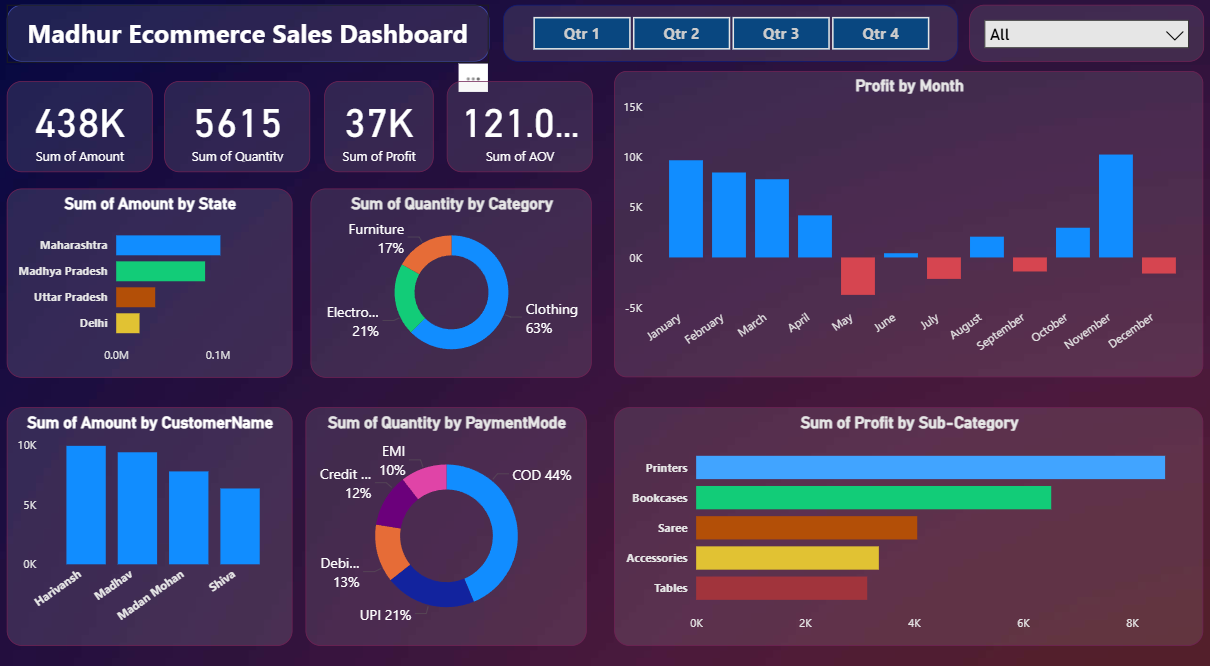

What the dashboard file says about the page in this screenshot:
{"tool":"powerbi","page":{"name":"Page 1","canvas":[1280,720],"ordinal":0},"visuals":[{"type":"textbox","box":[9.6,9.6,507.7,60.4],"z":0},{"type":"columnChart","title":"Profit by Month","fields":{"Category":["Orders.Order Date.Variation.Date Hierarchy.Month"],"Y":["Sum(Details.Profit)"]},"box":[649.1,79.6,620.2,322.5],"z":1000},{"type":"barChart","fields":{"Category":["Details.Sub-Category"],"Y":["Sum(Details.Profit)"]},"box":[649.1,432.2,620.2,251.1],"z":2000},{"type":"donutChart","fields":{"Category":["Details.Category"],"Y":["Sum(Details.Quantity)"]},"box":[329.3,203.1,296.4,199],"z":3000},{"type":"donutChart","fields":{"Y":["Sum(Details.Quantity)"],"Category":["Details.PaymentMode"]},"box":[323.8,432.2,296.4,251.1],"z":4000},{"type":"card","fields":{"Values":["Sum(Details.Amount)"]},"box":[9.6,89.2,153.7,96.1],"z":5000},{"type":"card","fields":{"Values":["Sum(Details.Quantity)"]},"box":[175.6,89.2,153.7,96.1],"z":6000},{"type":"card","fields":{"Values":["Sum(Details.Profit)"]},"box":[343.1,89.2,115.3,96.1],"z":7000},{"type":"card","fields":{"Values":["Sum(Details.AOV)"]},"box":[472,89.2,153.7,96.1],"z":8000},{"type":"barChart","fields":{"Y":["Sum(Details.Amount)"],"Category":["Orders.State"]},"box":[9.6,203.1,300.5,199],"z":9000},{"type":"columnChart","fields":{"Category":["Orders.CustomerName"],"Y":["Sum(Details.Amount)"]},"box":[9.6,432.2,300.5,251.1],"z":10000},{"type":"slicer","fields":{"Values":["Orders.Order Date.Variation.Date Hierarchy.Quarter"]},"box":[531,9.6,478.9,60.4],"z":11000},{"type":"slicer","fields":{"Values":["Orders.State"]},"box":[1022.3,9.6,247,60.4],"z":11001}]}

Visuals, with their boxes in screenshot pixels (x1, y1, x2, y2), scaled from the page's 1280x720 canvas onto the 1210x666 screenshot:
textbox: box=[9, 9, 489, 65]
"Profit by Month" columnChart: box=[614, 74, 1200, 372]
barChart - Details.Sub-Category x Sum(Details.Profit): box=[614, 400, 1200, 632]
donutChart - Details.Category x Sum(Details.Quantity): box=[311, 188, 591, 372]
donutChart - Sum(Details.Quantity) x Details.PaymentMode: box=[306, 400, 586, 632]
card - Sum(Details.Amount): box=[9, 83, 154, 171]
card - Sum(Details.Quantity): box=[166, 83, 311, 171]
card - Sum(Details.Profit): box=[324, 83, 433, 171]
card - Sum(Details.AOV): box=[446, 83, 591, 171]
barChart - Sum(Details.Amount) x Orders.State: box=[9, 188, 293, 372]
columnChart - Orders.CustomerName x Sum(Details.Amount): box=[9, 400, 293, 632]
slicer - Orders.Order Date.Variation.Date Hierarchy.Quarter: box=[502, 9, 955, 65]
slicer - Orders.State: box=[966, 9, 1200, 65]
